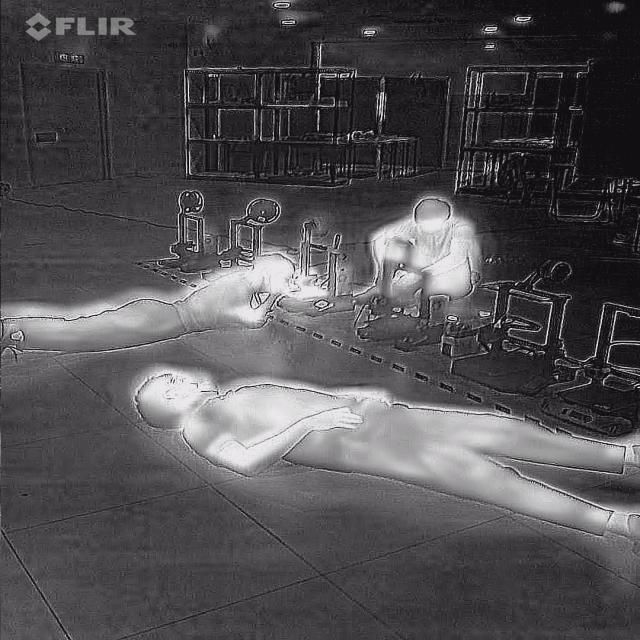Victim: (127, 355, 636, 551), (0, 252, 298, 361), (343, 192, 486, 310)
